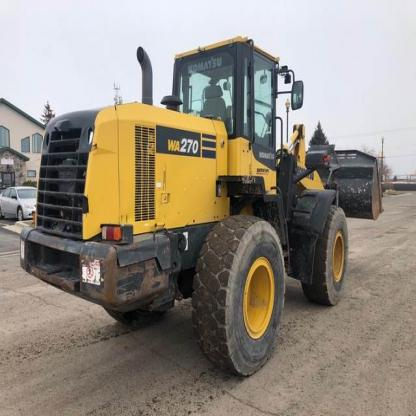bull_dozer/loader/grader: (15, 27, 389, 378)
